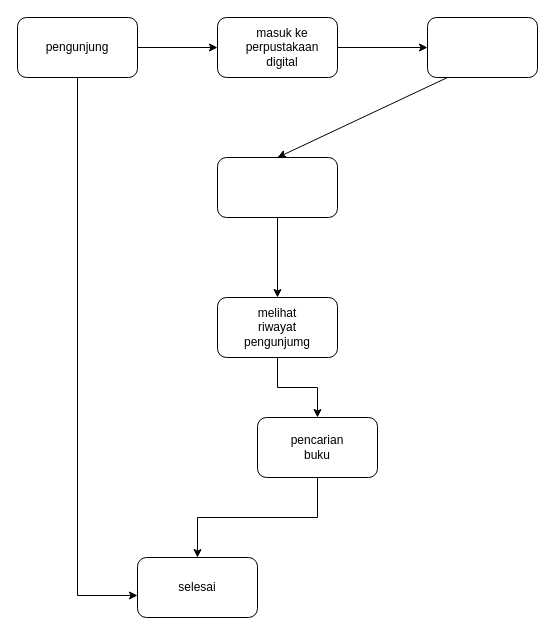
Some shapes in this 555 by 635 pixel diagram are drawn without their labels. The shapes that lost their labels are listed below. From the top down, each one's centre as x and y in pixels, then its label:
At [482,47]: "isi from pengunjung".
At [277,187]: "kirim".
